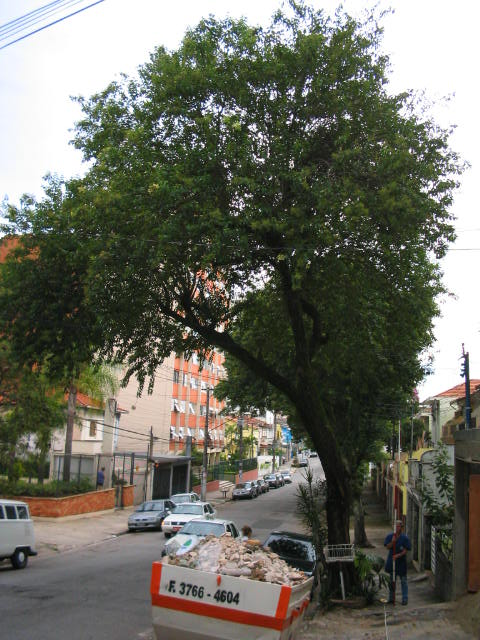crown: (6, 3, 468, 399)
stem: (304, 480, 369, 598)
stick: (385, 486, 402, 604)
tree: (3, 2, 471, 600)
